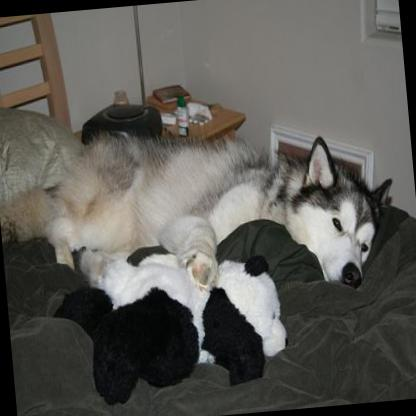malamute: (0, 106, 401, 320)
